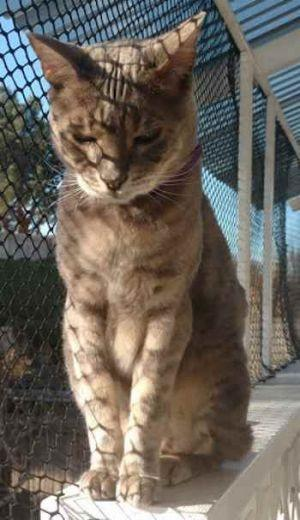bengal: (15, 1, 216, 212)
